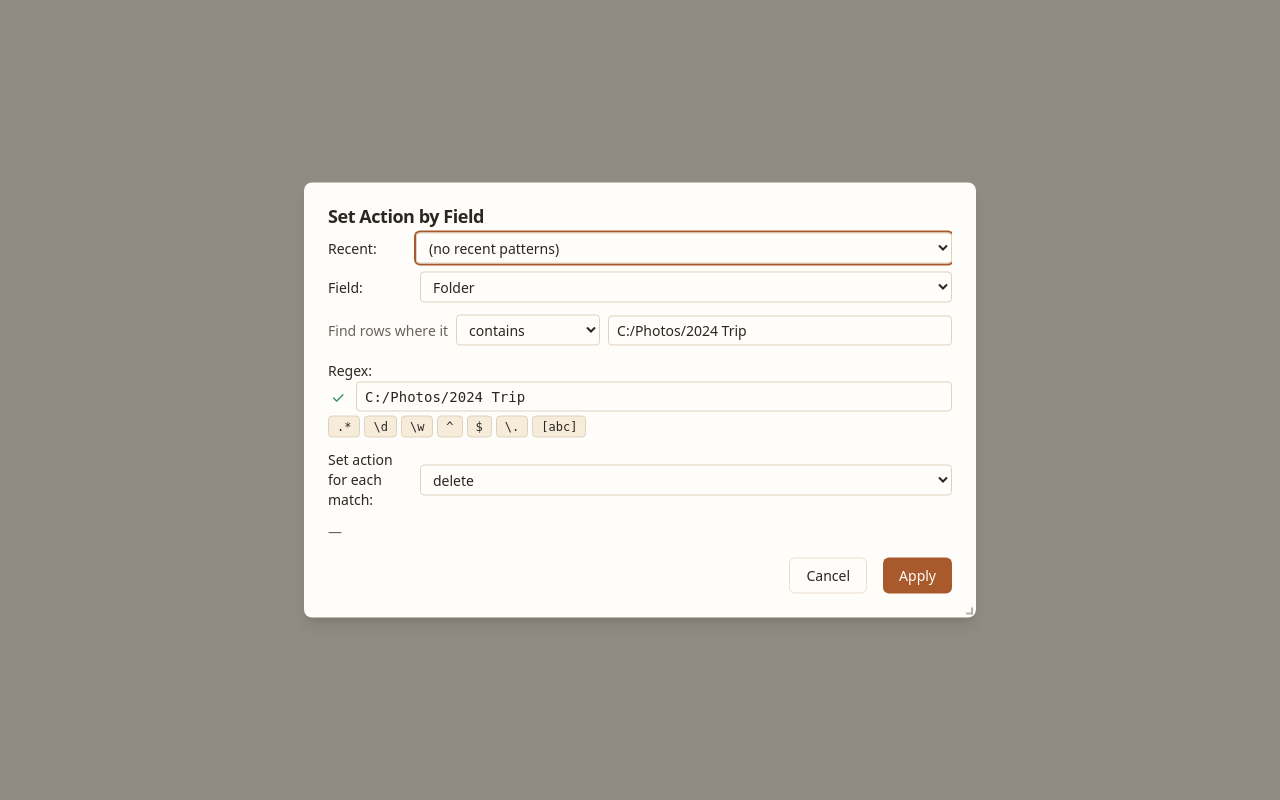
Test: ActionDialog › #893 re-seeds on a field change while the matcher is still the old seed
Select "File Name" in the dropdown with test id "action-field-combo" at (686, 287), box [420,272,952,302]
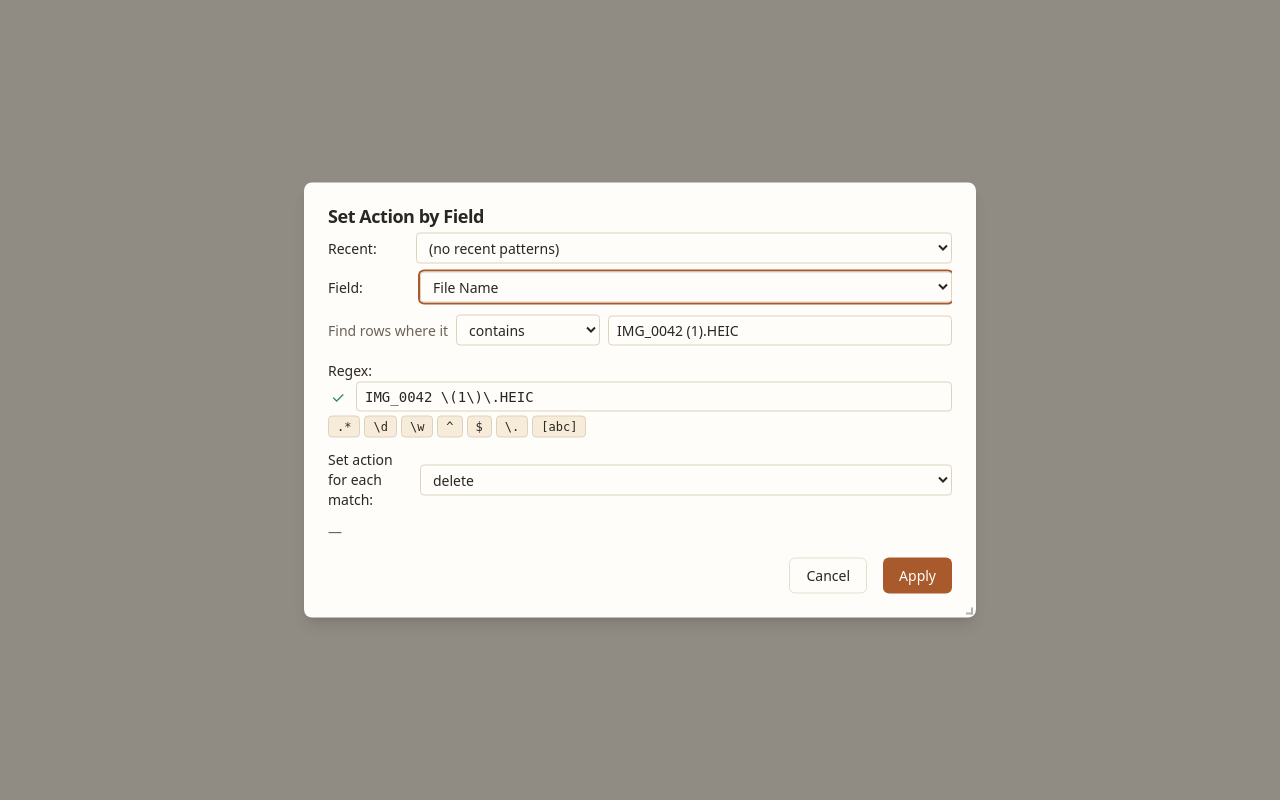
Result: the field with test id "action-simple-text" holds "IMG_0042 (1).HEIC" at [608,315,952,345]
